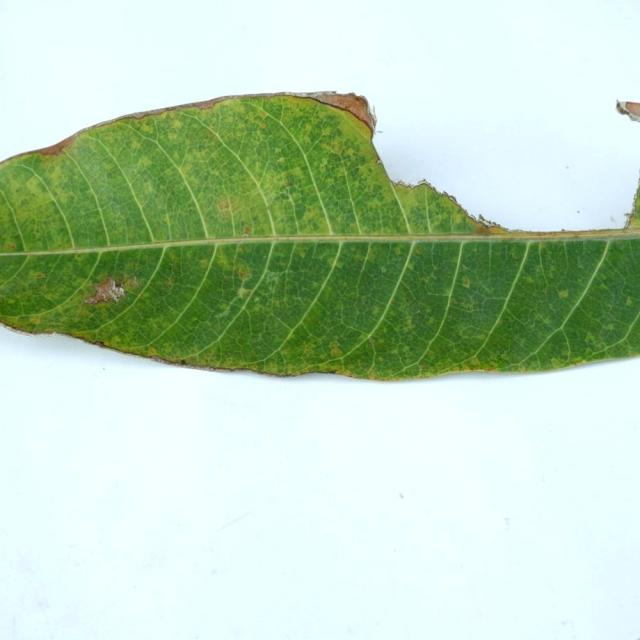Mango: (0, 93, 639, 380)
Powdery_Mildew: (135, 178, 155, 198), (330, 141, 345, 155), (237, 286, 253, 298), (343, 148, 357, 160), (328, 257, 341, 269), (586, 335, 599, 347), (279, 191, 292, 201), (444, 286, 455, 297), (302, 343, 313, 354), (171, 119, 183, 129), (332, 346, 343, 356), (551, 358, 563, 367), (469, 358, 481, 367), (5, 297, 18, 305), (297, 248, 307, 258), (558, 289, 569, 298), (498, 353, 509, 362), (462, 276, 470, 288), (524, 276, 535, 284), (536, 265, 545, 274), (148, 346, 157, 355), (165, 278, 174, 287), (139, 291, 149, 299), (405, 318, 413, 328), (393, 246, 403, 254), (31, 316, 41, 324), (604, 323, 615, 330), (392, 347, 401, 355), (199, 259, 208, 267), (420, 277, 430, 284), (372, 306, 380, 314), (428, 318, 436, 326), (626, 297, 634, 305), (259, 121, 267, 129), (599, 283, 608, 290), (274, 148, 282, 155), (415, 248, 423, 255), (277, 157, 286, 163), (380, 266, 387, 273), (563, 350, 570, 357), (129, 261, 136, 268), (238, 245, 245, 251), (228, 133, 232, 137)
